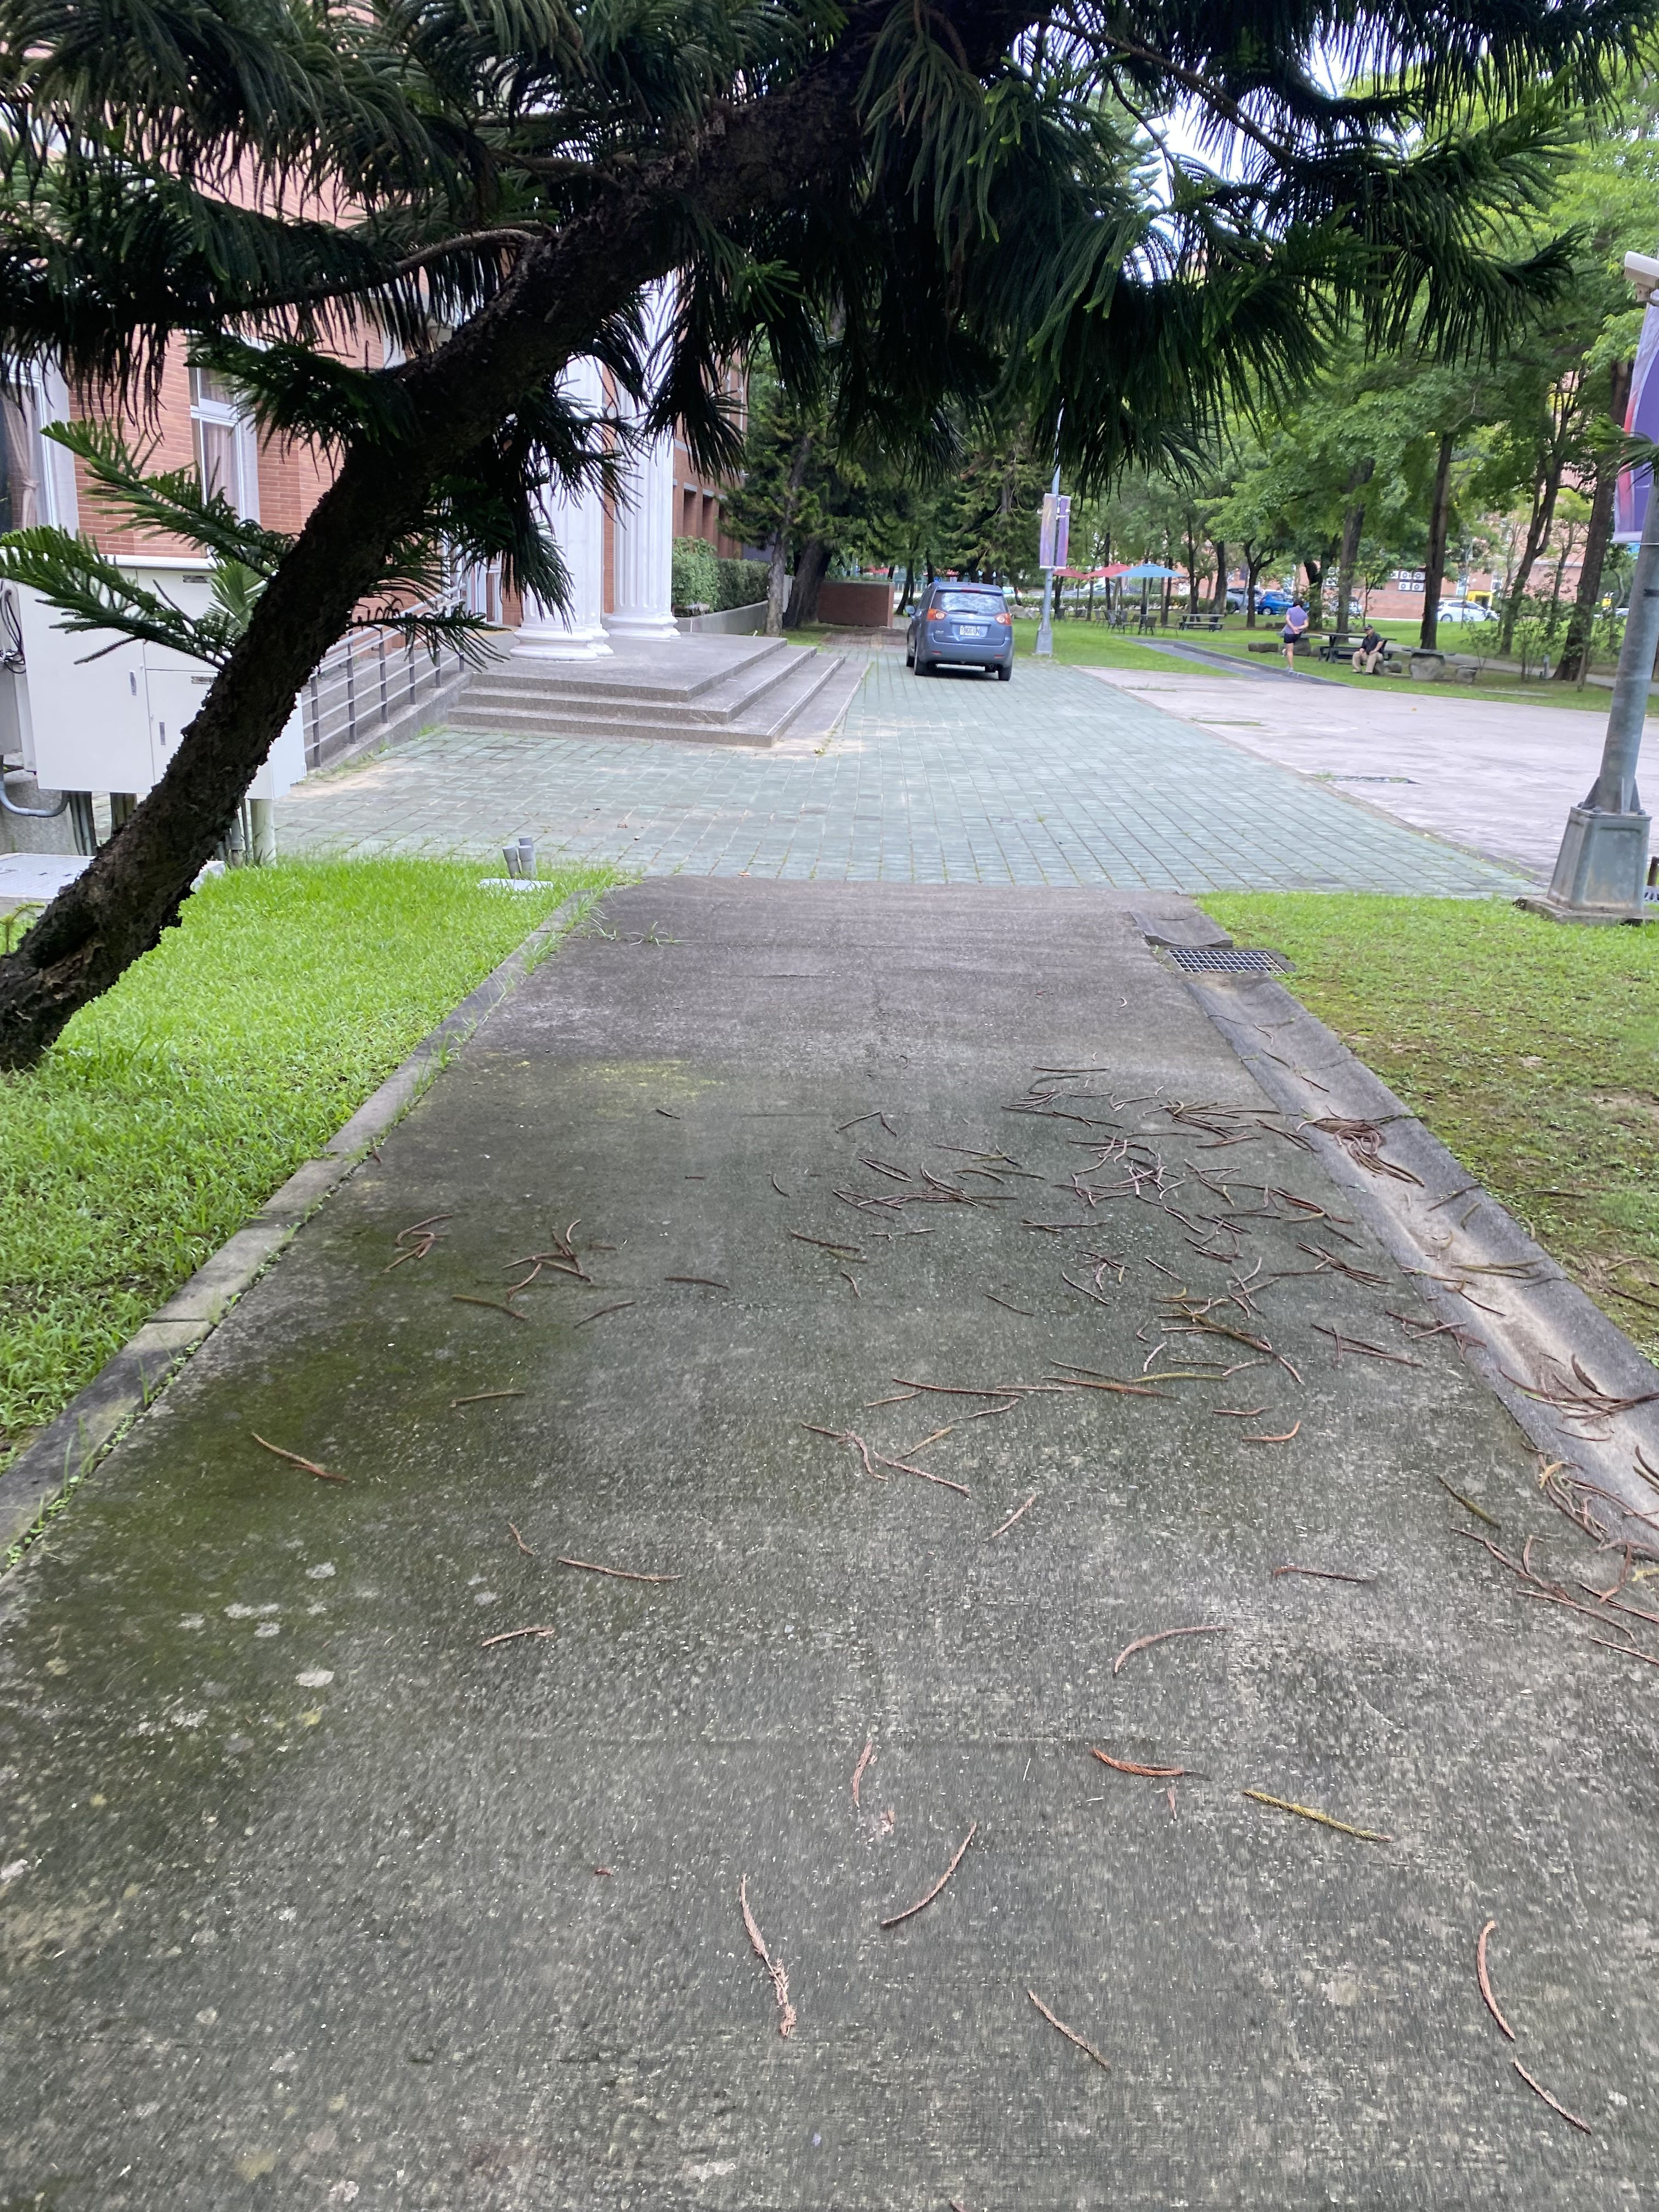0: (94, 564, 1530, 949)
sidewalk: (5, 831, 1659, 2212)
